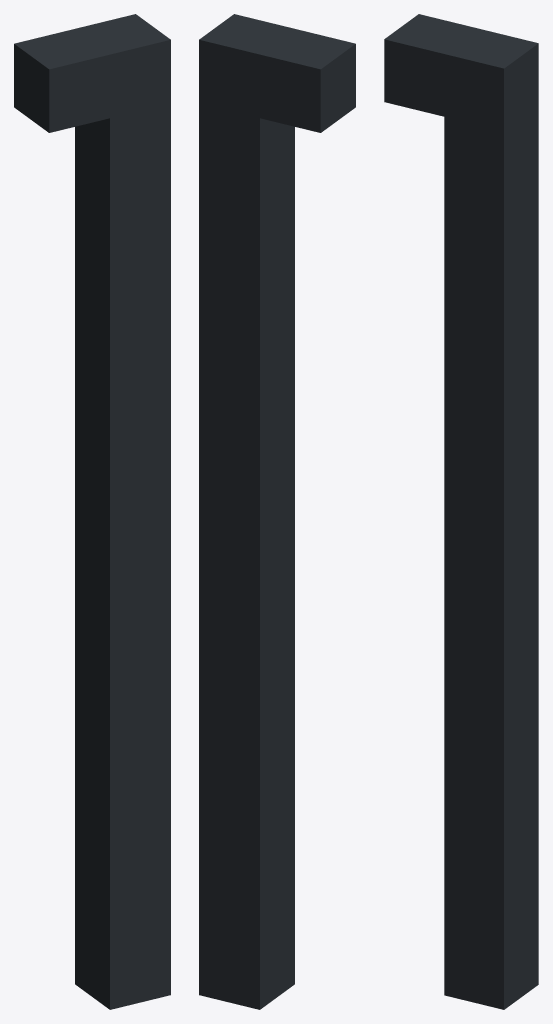
Rendered from Pipes-7.fbx.
3 views of the same model, side by side, from view 1: azimuth 30°, elevation 25°; view 2: azimuth 150°, elevation 25°; view 3: azimuth 330°, elevation 25° (orthographic).
Visible parts, largest first — view 1: Pipes_7; view 2: Pipes_7; view 3: Pipes_7.
Part boxes in pixels (x1,y1,x2,y2): Pipes_7: (14, 14, 170, 1009); Pipes_7: (199, 14, 355, 1009); Pipes_7: (384, 14, 538, 1009).
Bounding box in the file's own units: 20 × 150 × 10.
Materials: 1 (1 with a texture image).
